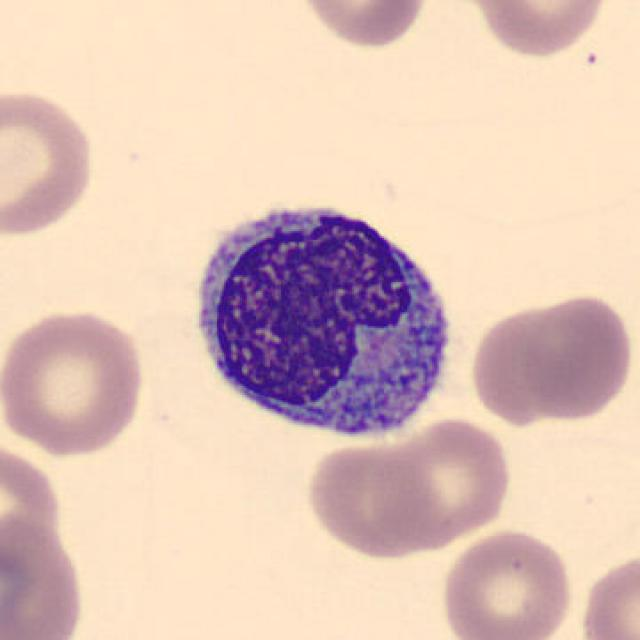Monocyte: (178, 185, 466, 453)
RBC: (2, 305, 149, 458), (370, 412, 514, 552), (302, 437, 438, 561), (514, 289, 636, 425), (437, 525, 576, 640), (0, 83, 100, 240), (466, 292, 580, 428), (0, 511, 89, 640), (0, 436, 66, 578), (462, 0, 614, 60), (292, 0, 432, 51), (574, 546, 640, 640)
